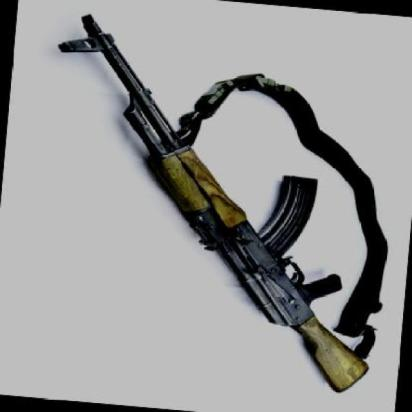Gun: (60, 12, 373, 394)
